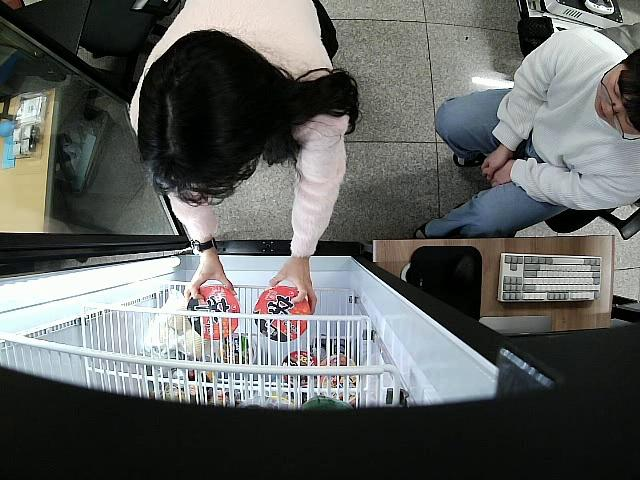00_hand: (182, 254, 238, 304), (268, 257, 317, 311)
01_shinRamen_L: (252, 286, 311, 342), (186, 286, 240, 339)
